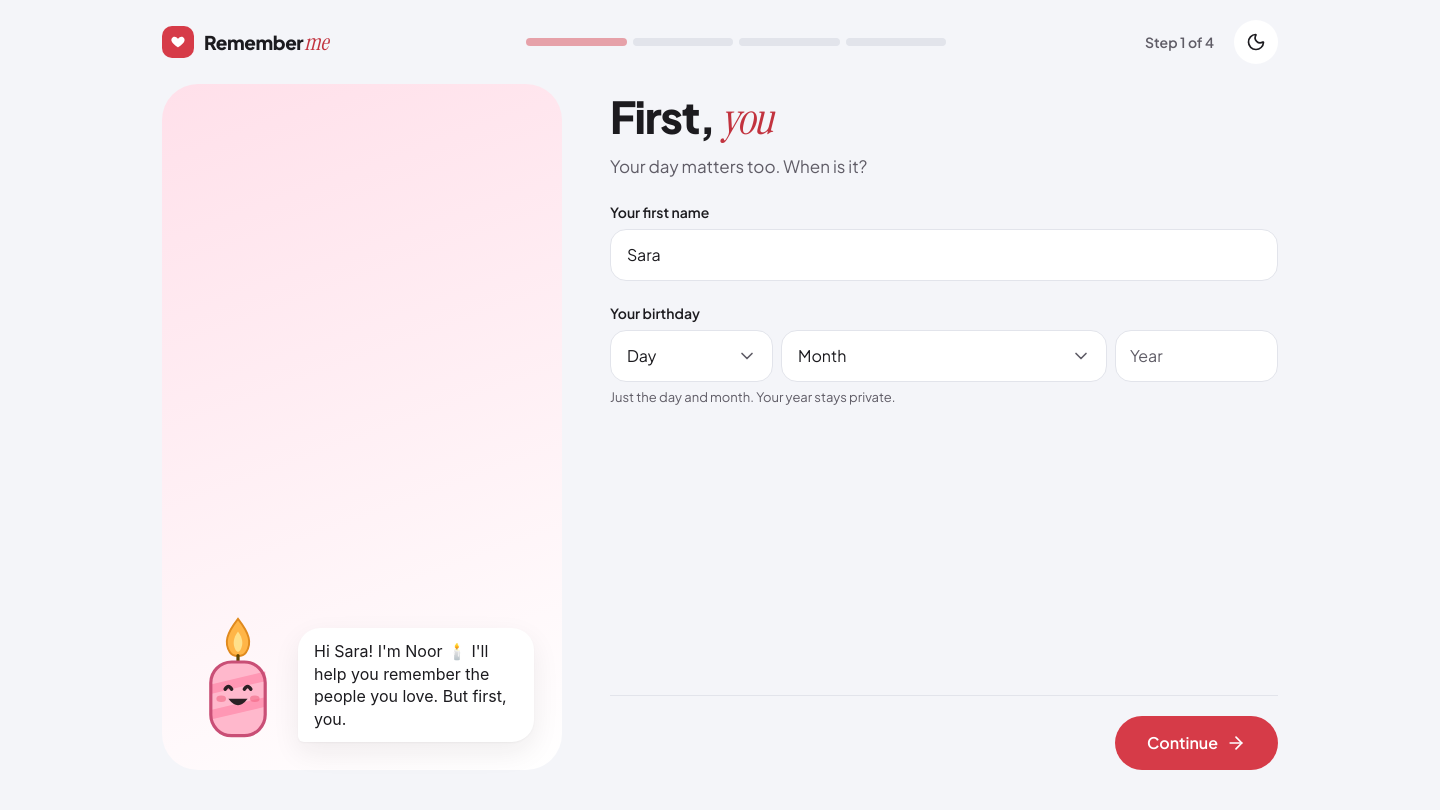
Test: Onboarding · step 1, You › Continue explains what's missing in the bar and on the field, and focuses it
The image size is (1440, 810).
Click the button "Continue".
click(1196, 743)  # box [1115, 716, 1278, 770]
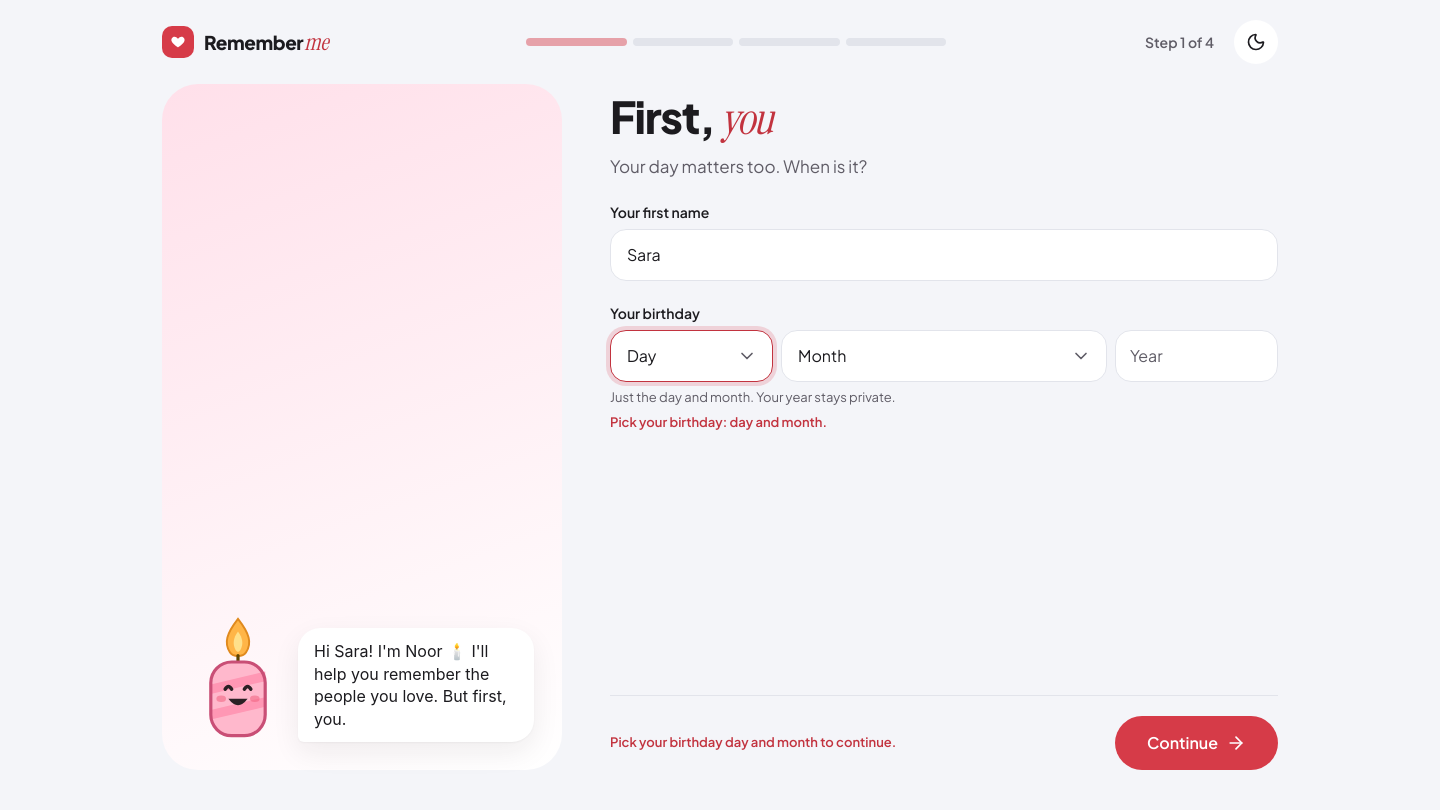
Expected: the text with id "onboarding-needs" reads "Pick your birthday day and month to continue.", [610, 734, 896, 750]
